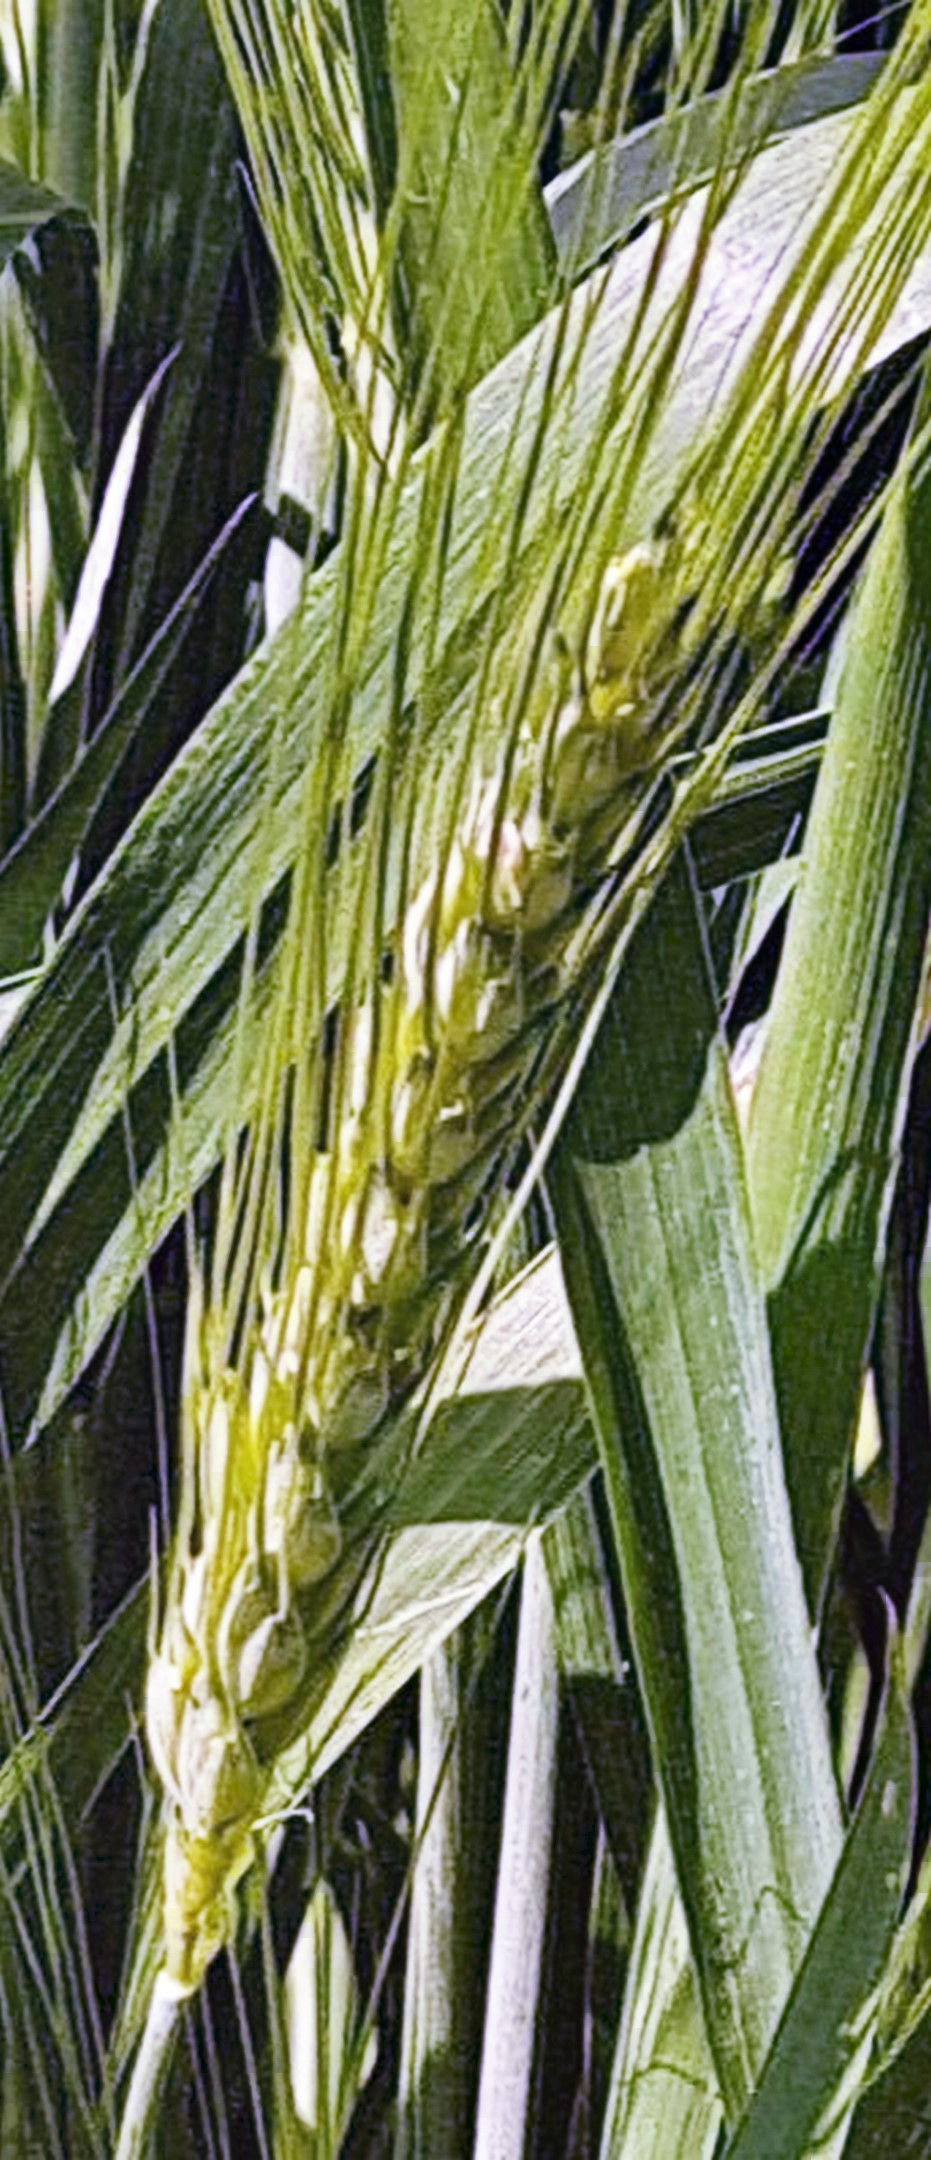Healthy Wheat: (116, 540, 741, 1880)
